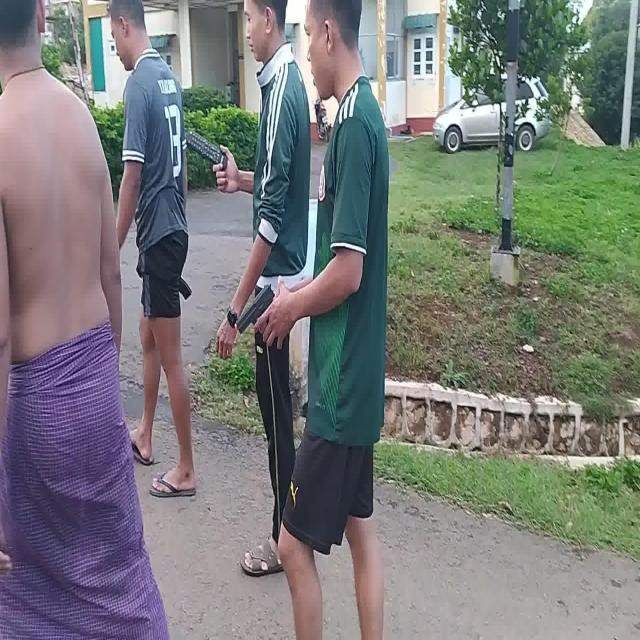gun: (237, 288, 275, 334)
